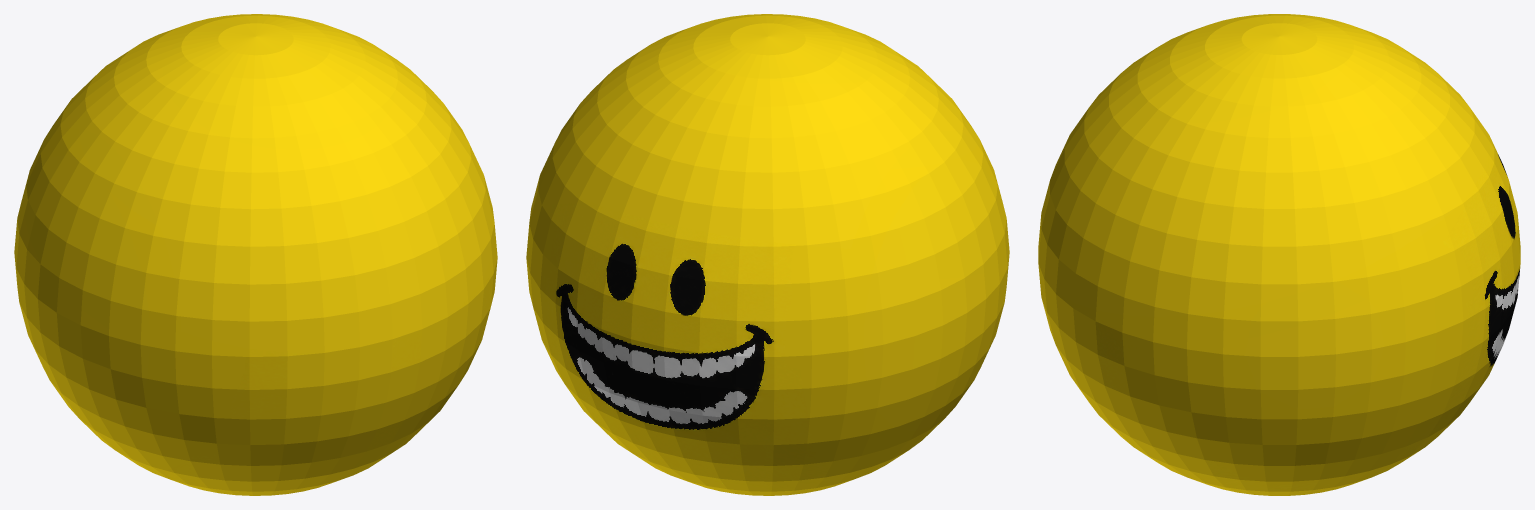
The model's file is verity_full_model.glb.
3 views of the same model, side by side, from view 1: azimuth 30°, elevation 25°; view 2: azimuth 150°, elevation 25°; view 3: azimuth 270°, elevation 25° (orthographic).
Visible parts, largest first — view 1: sphere_0; view 2: sphere_0; view 3: sphere_0.
Boxes of the visible parts, box(x1,y1,x2,y2) form: sphere_0: box(14, 14, 497, 495); sphere_0: box(526, 14, 1009, 495); sphere_0: box(1038, 14, 1520, 495).
Bounding box in the file's own units: 0.6875 × 0.6875 × 0.6875.
Materials: 5 (5 with a texture image).
